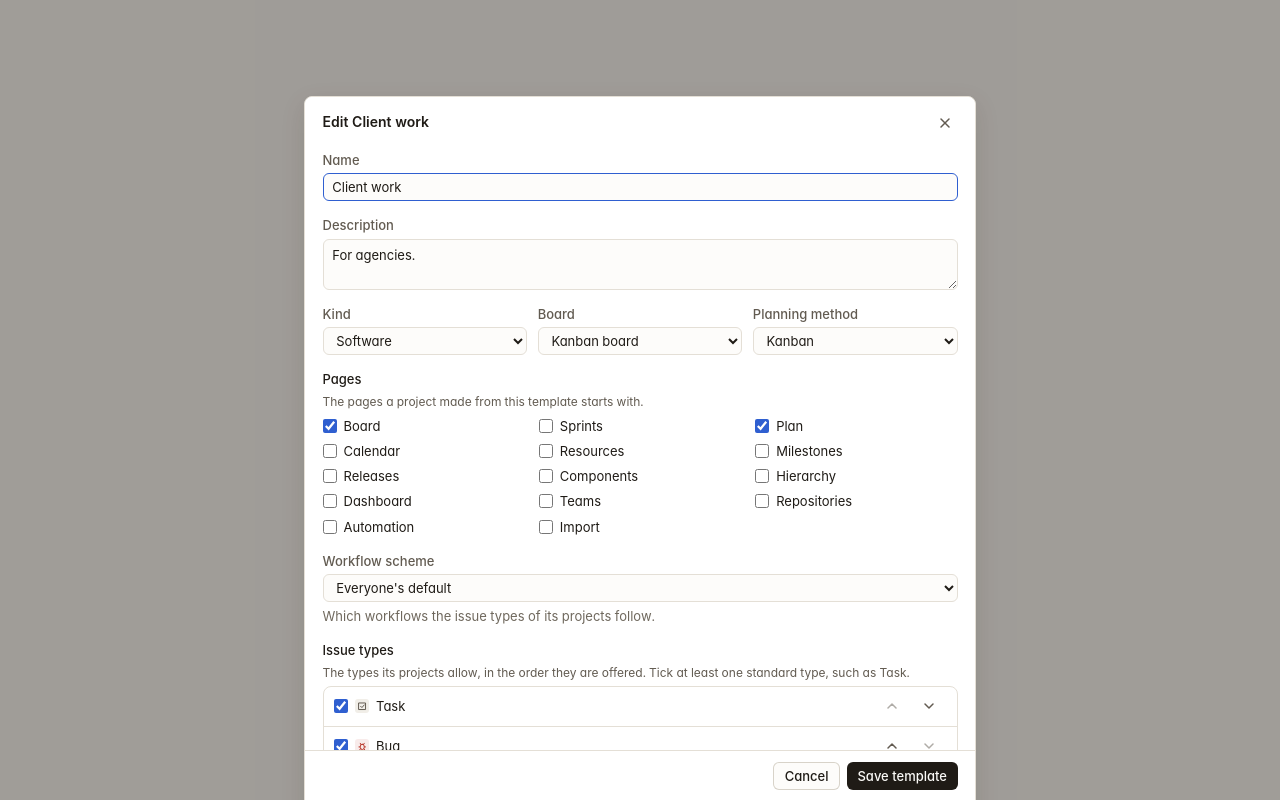
Test: the template editor › shows the server's refusal as its sentence
This screenshot has width=1280, height=800.
Click the button "Save template".
click(902, 776)  # box [847,762,958,790]
(page scrolled)
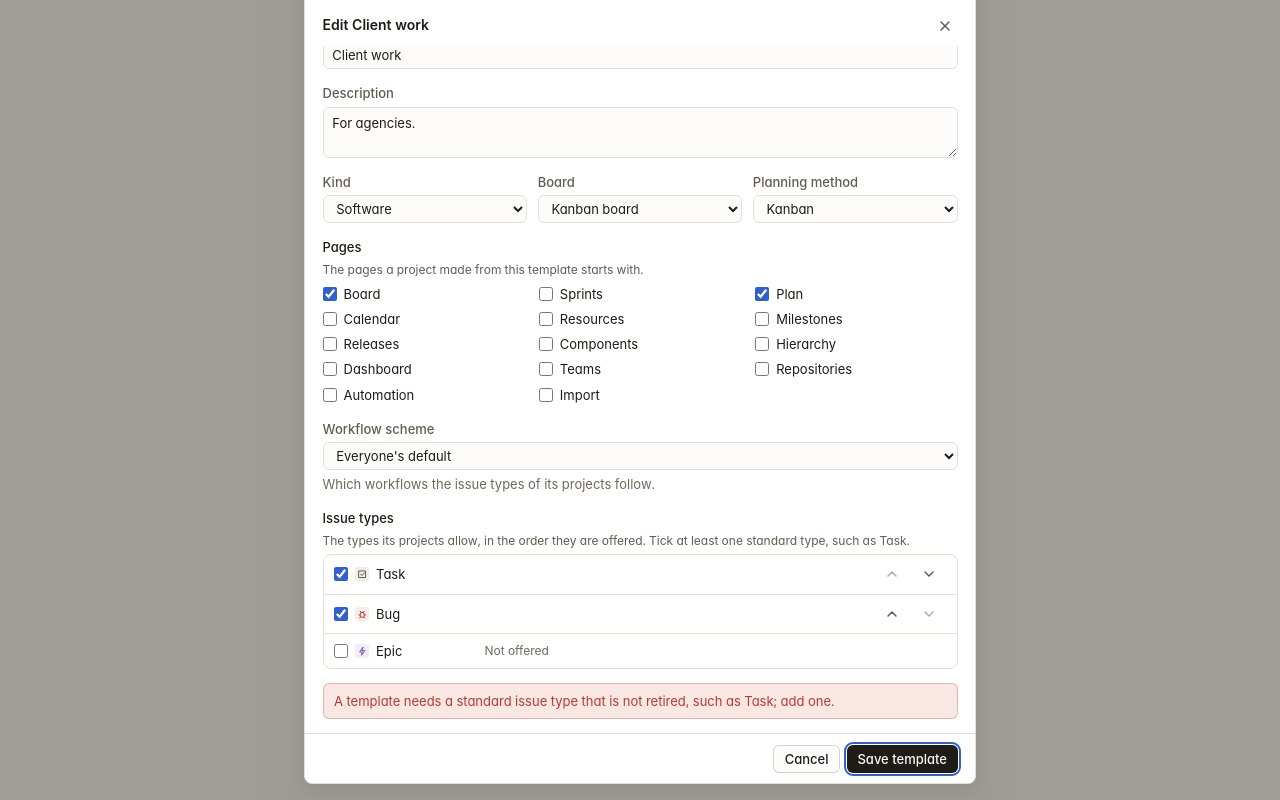
Check: the text "A template needs a standard issue type that is not retired, such as Task; add one." is shown, box [334,693,834,709]
